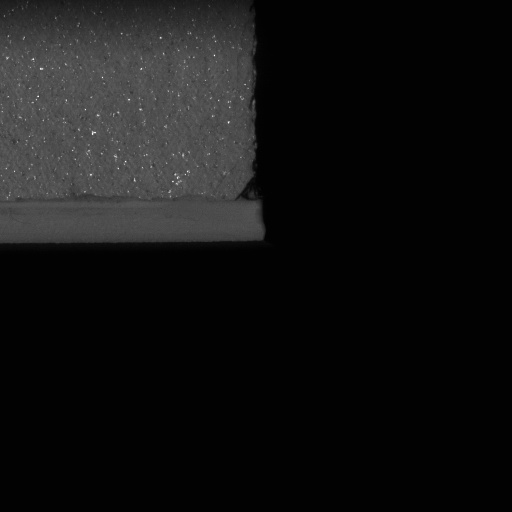bengque: (232, 178, 262, 207)
